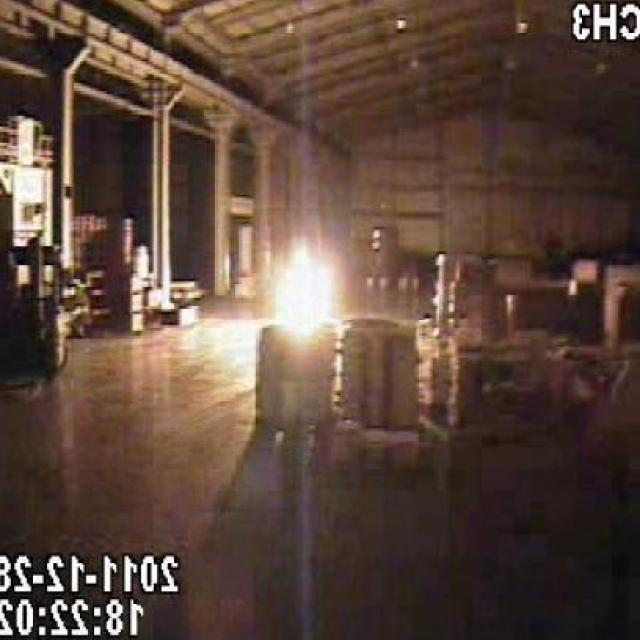smoke: (282, 238, 331, 336)
